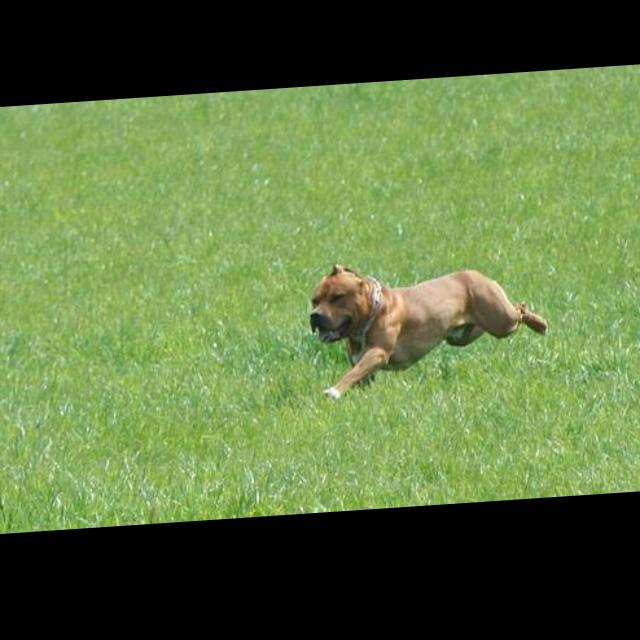staffford: (311, 256, 550, 407)
